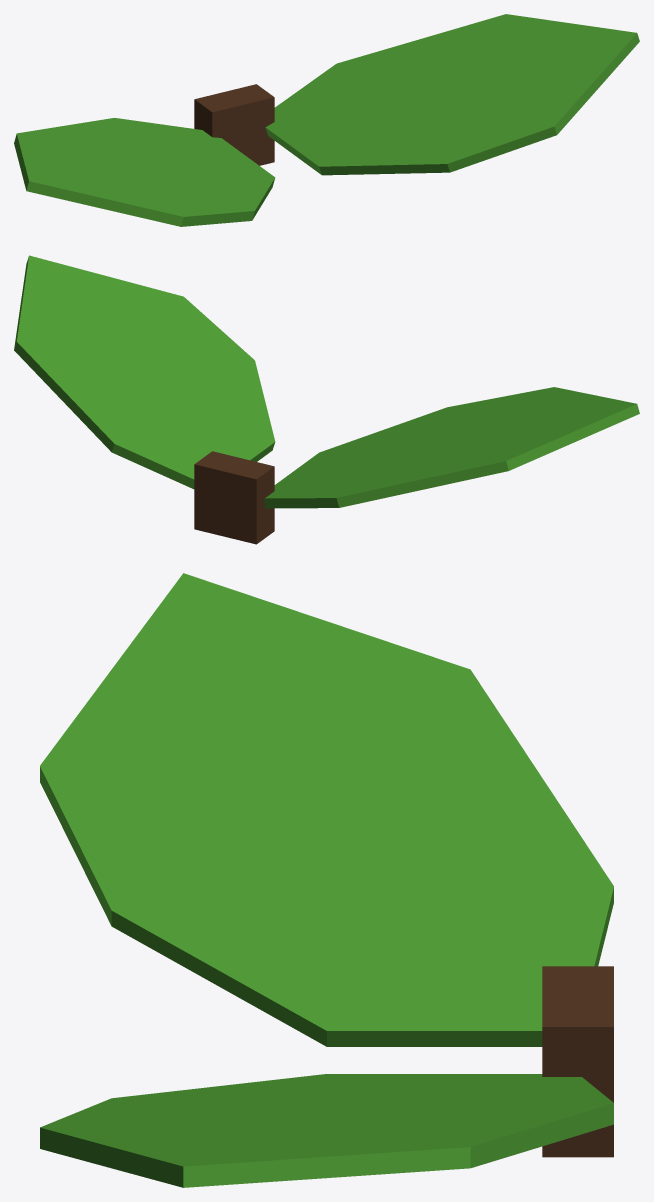
Rendered from leaf_wings.glb.
3 renders of one model, top to bottom at view 1: azimuth 30°, elevation 25°; view 2: azimuth 150°, elevation 25°; view 3: azimuth 270°, elevation 25°, orthographic. The views are drawn at different scales.
Visible parts, largest first — view 1: leaf_wings_v0; view 2: leaf_wings_v0; view 3: leaf_wings_v0.
Part boxes in pixels (left/top/right/bottom): leaf_wings_v0: left=14, top=14, right=639, bottom=226; leaf_wings_v0: left=14, top=255, right=639, bottom=544; leaf_wings_v0: left=40, top=573, right=613, bottom=1187.
Size of the model in its own units: 0.7896 by 0.158 by 0.32.
